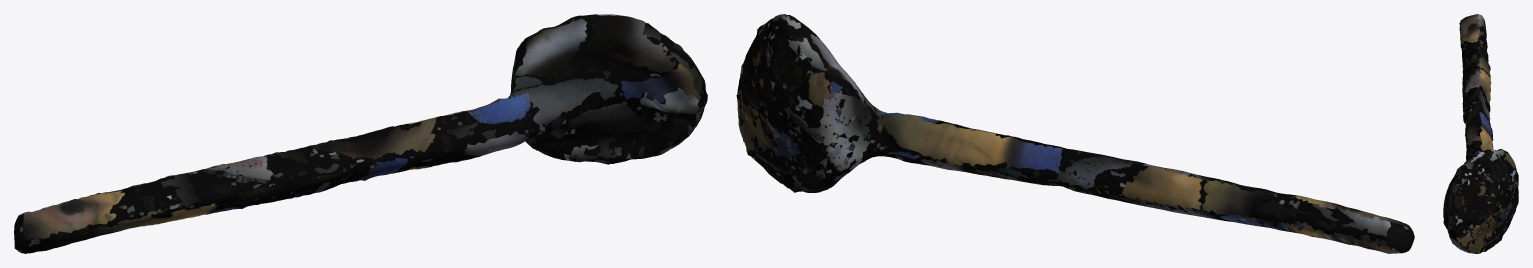
The model's file is final_mesh_cutlery-spoon_1.obj.
The picture shows the model from 3 angles, left to right: view 1: azimuth 30°, elevation 25°; view 2: azimuth 150°, elevation 25°; view 3: azimuth 270°, elevation 25°; orthographic projection. The views are drawn at different scales.
Size of the model in its own units: 0.1442 by 0.0313 by 0.023.
